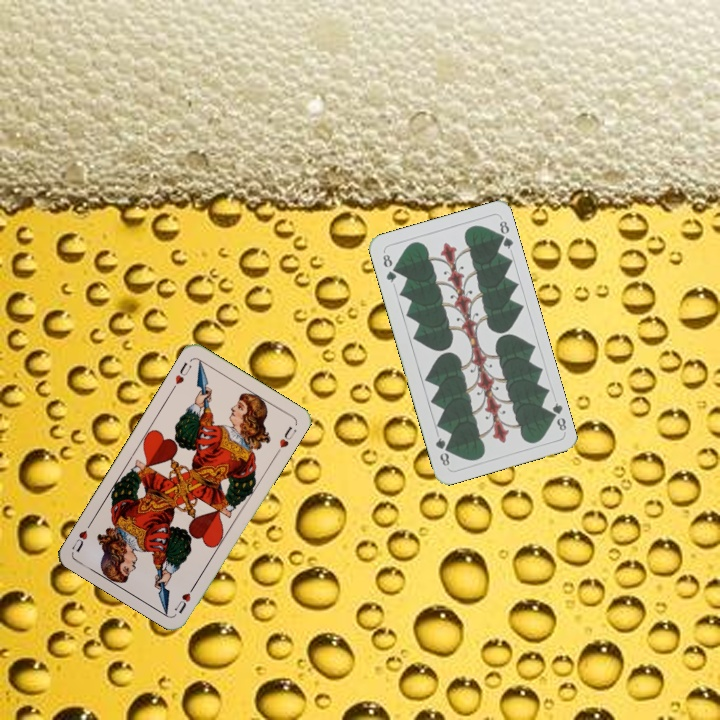G8: (544, 399, 569, 433), (379, 250, 399, 285)
HU: (170, 580, 198, 616), (168, 358, 194, 393)
